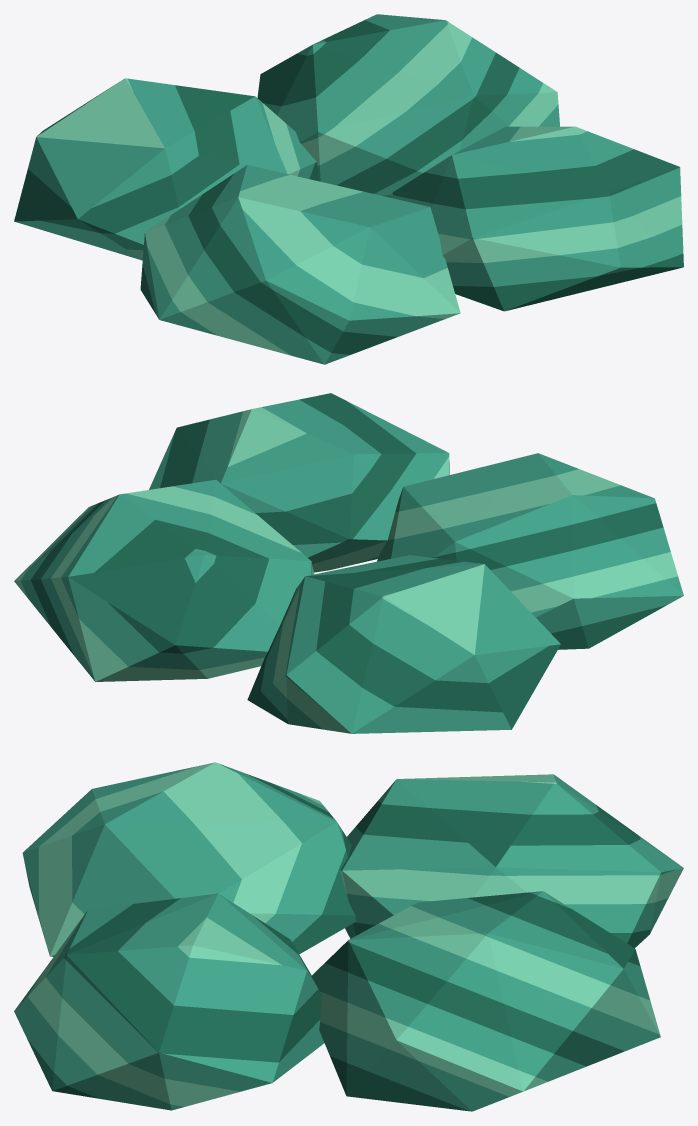
File: minerai_cuivre_1.glb
3 renders of one model, top to bottom at view 1: azimuth 30°, elevation 25°; view 2: azimuth 150°, elevation 25°; view 3: azimuth 270°, elevation 25°, orthographic. The views are drawn at different scales.
Parts seen in each view (by area): view 1: minerai_malachite.004, minerai_malachite_sombre.004, minerai_malachite_claire.004; view 2: minerai_malachite.004, minerai_malachite_sombre.004, minerai_malachite_claire.004; view 3: minerai_malachite.004, minerai_malachite_claire.004, minerai_malachite_sombre.004.
Part boxes in pixels (<box>): minerai_malachite.004: <box>15,14,683,364</box>; minerai_malachite_sombre.004: <box>14,20,683,354</box>; minerai_malachite_claire.004: <box>36,22,682,355</box>; minerai_malachite.004: <box>20,399,683,733</box>; minerai_malachite_sombre.004: <box>31,393,666,729</box>; minerai_malachite_claire.004: <box>14,407,677,733</box>; minerai_malachite.004: <box>14,763,683,1111</box>; minerai_malachite_claire.004: <box>27,762,683,1106</box>; minerai_malachite_sombre.004: <box>24,774,650,1111</box>.
Size of the model in its own units: 0.5345 by 0.117 by 0.5355.
